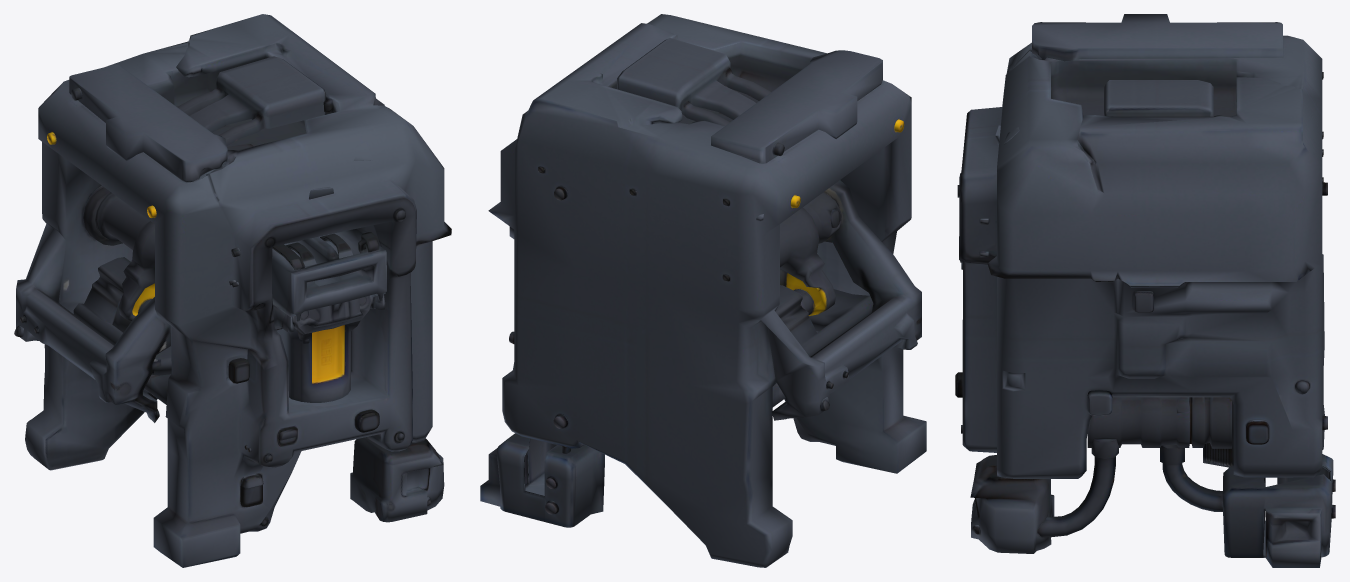
The model's file is tripo_convert_b81b50bd-cac9-4122-90c6-6b2b0ff7bb53.fbx.
The picture shows the model from 3 angles, left to right: view 1: azimuth 30°, elevation 25°; view 2: azimuth 150°, elevation 25°; view 3: azimuth 270°, elevation 25°; orthographic projection. The views are drawn at different scales.
Visible parts, largest first — view 1: tripo_node_b81b50bd; view 2: tripo_node_b81b50bd; view 3: tripo_node_b81b50bd.
Part boxes in pixels (<box>): tripo_node_b81b50bd: <box>14,14,451,567</box>; tripo_node_b81b50bd: <box>480,14,926,567</box>; tripo_node_b81b50bd: <box>955,14,1335,567</box>.
Bounding box in the file's own units: 0.8491 × 0.9995 × 0.8179.
Materials: 1 (1 with a texture image).
